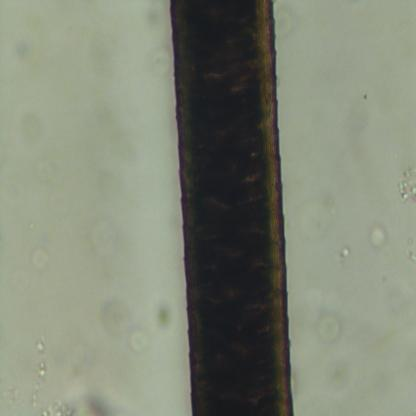Background material: (342, 81, 392, 175), (294, 182, 343, 248), (102, 298, 150, 352), (42, 388, 127, 415), (31, 336, 48, 412), (93, 219, 125, 256), (315, 306, 342, 346), (396, 165, 416, 202), (368, 222, 388, 250), (154, 304, 172, 332), (32, 247, 50, 272), (404, 235, 416, 262), (338, 246, 353, 260)
Hair: (169, 0, 295, 415)
